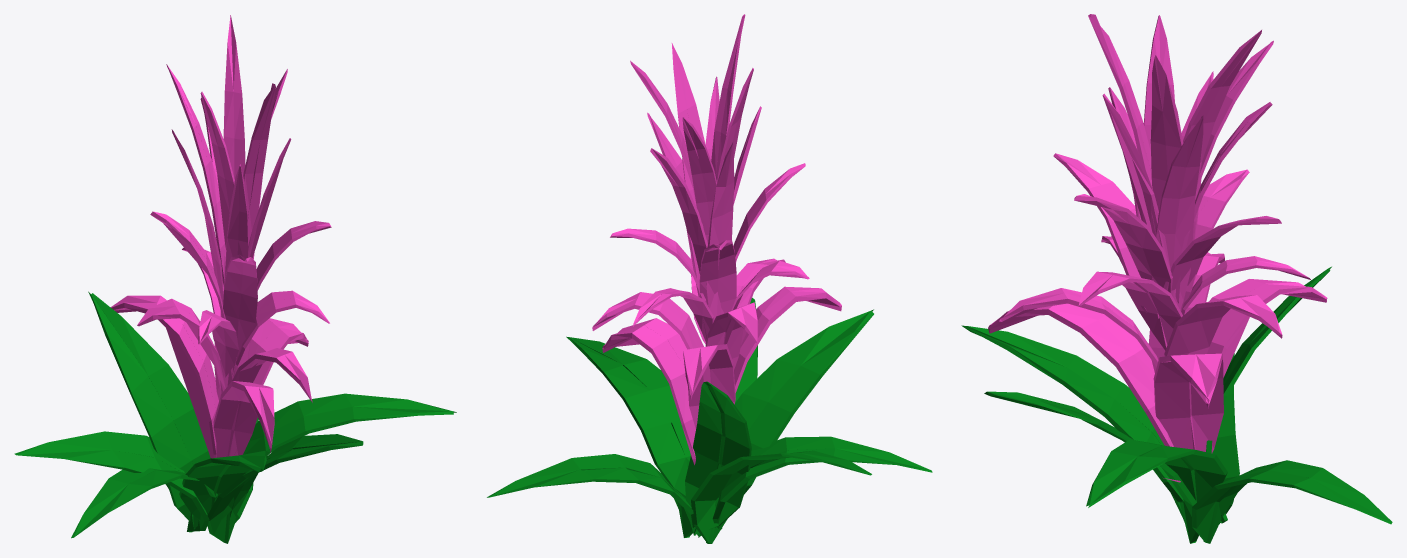
File: ShrubPinkFlower03.fbx
3 renders of one model, left to right at view 1: azimuth 30°, elevation 25°; view 2: azimuth 150°, elevation 25°; view 3: azimuth 270°, elevation 25°, orthographic. The views are drawn at different scales.
Visible parts, largest first — view 1: ShrubPinkFlower03_LOD0; view 2: ShrubPinkFlower03_LOD0; view 3: ShrubPinkFlower03_LOD0.
Part boxes in pixels (x1,y1,x2,y2): ShrubPinkFlower03_LOD0: [14, 15, 456, 543]; ShrubPinkFlower03_LOD0: [487, 14, 932, 543]; ShrubPinkFlower03_LOD0: [961, 14, 1392, 543].
Size of what is drawn, in the model's own units: 101 by 126 by 92.53.
